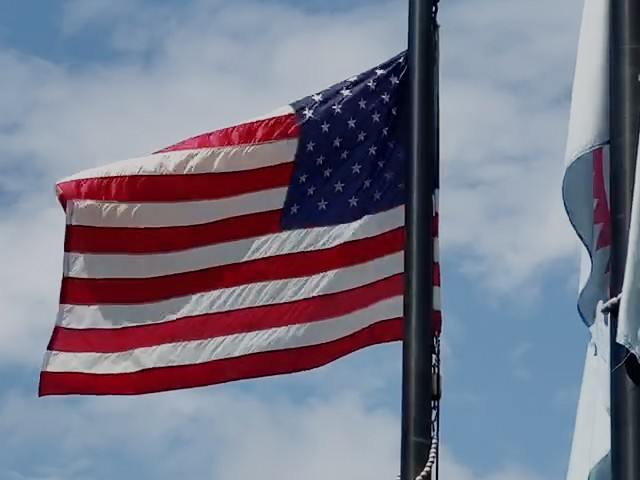America flag: (37, 48, 406, 399)
